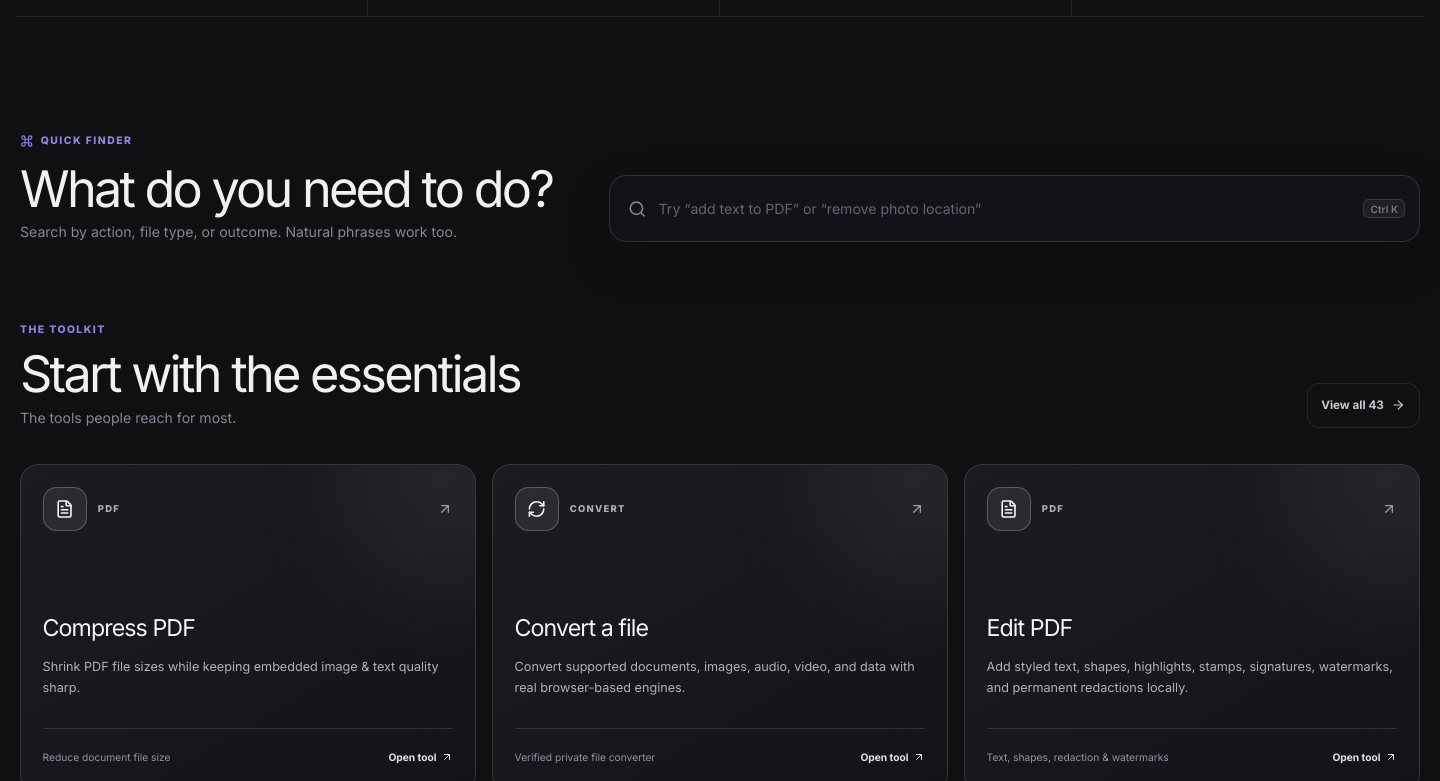
Test: Dashboard Component › shows popular tools first and expands the complete library on request
(page scrolled)
Click the button "View all 43": (1363, 405) [1307,383,1420,428]
(page scrolled)
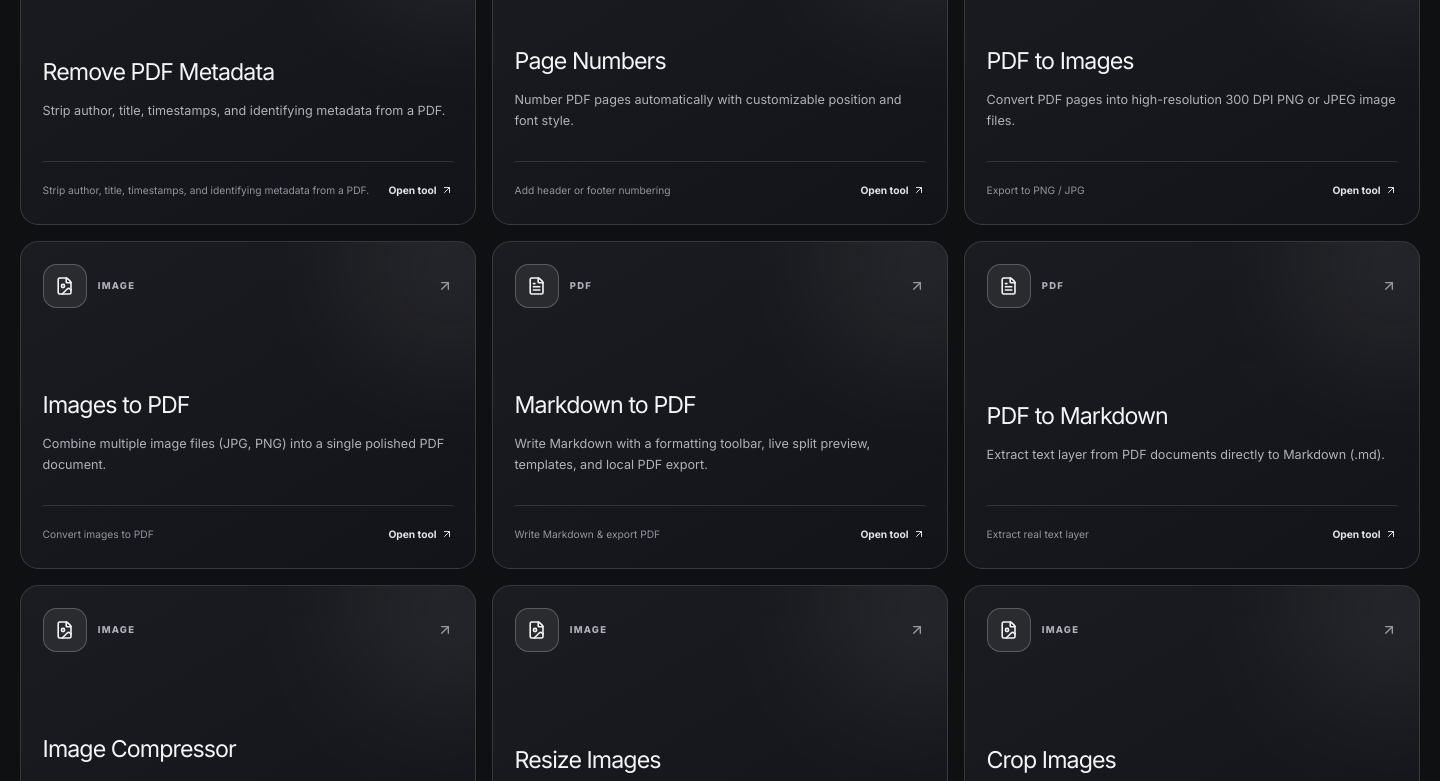
Result: the heading "Markdown to PDF" is shown at [515,391,696,419]
